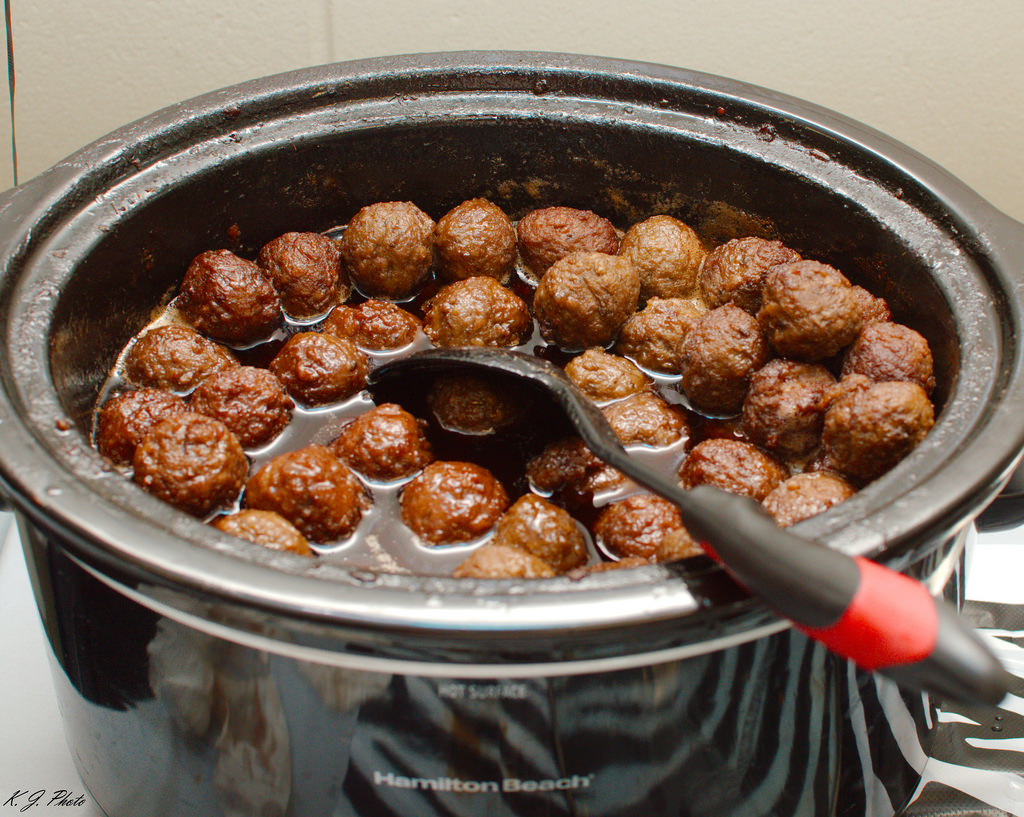meatballs: (202, 234, 874, 494)
